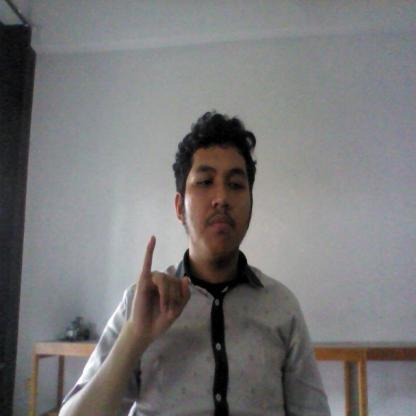I: (130, 227, 194, 345)
